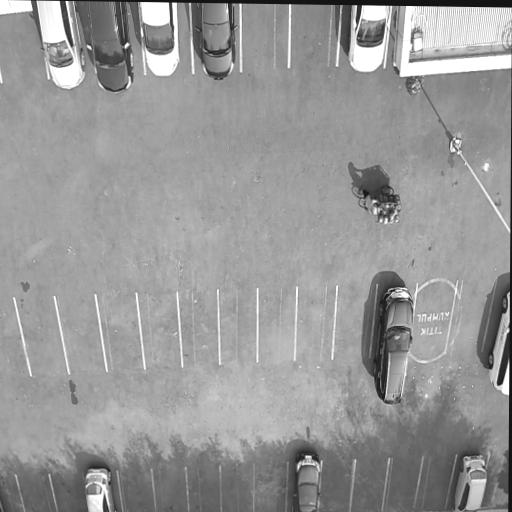Car: (372, 278, 414, 410), (32, 0, 87, 89), (86, 1, 136, 94), (135, 2, 184, 82), (481, 283, 510, 401), (196, 3, 238, 83), (346, 5, 390, 77), (449, 453, 493, 512), (79, 463, 122, 512), (291, 449, 320, 512)
Space Available: (408, 282, 462, 369), (14, 297, 67, 376), (53, 297, 105, 375), (445, 284, 498, 357), (94, 297, 144, 373), (289, 4, 343, 71), (0, 12, 48, 84), (334, 284, 377, 364), (136, 296, 180, 370), (241, 4, 289, 71), (217, 288, 257, 365), (178, 289, 218, 363), (258, 285, 294, 364), (296, 288, 334, 362), (413, 454, 457, 512), (349, 458, 394, 512), (0, 302, 31, 379), (384, 457, 422, 512), (113, 464, 156, 512), (318, 458, 355, 512), (219, 458, 254, 512), (186, 454, 218, 512), (151, 460, 185, 512), (254, 459, 285, 512), (48, 470, 87, 512), (482, 452, 509, 510), (15, 473, 55, 512), (0, 476, 22, 512)
